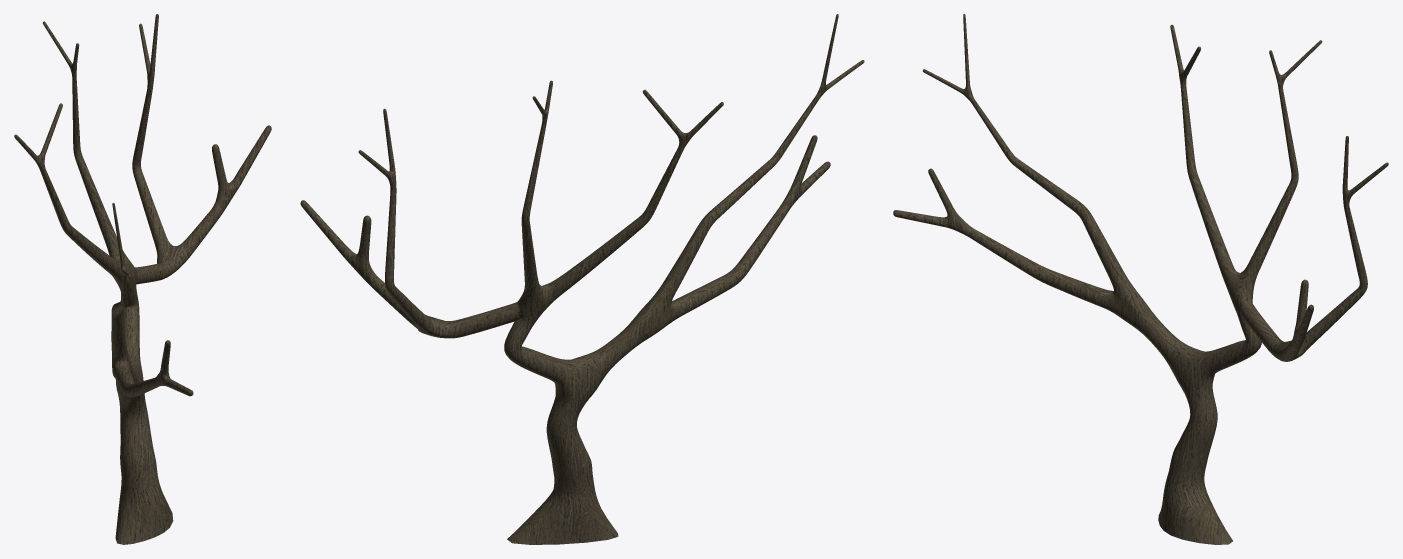
File: withered_tree_brown.glb
3 views of the same model, side by side, from view 1: azimuth 30°, elevation 25°; view 2: azimuth 150°, elevation 25°; view 3: azimuth 270°, elevation 25° (orthographic). The views are drawn at different scales.
Visible parts, largest first — view 1: Cube.019; view 2: Cube.019; view 3: Cube.019.
Part boxes in pixels (x1=…): Cube.019: x1=14, y1=14, x2=271, y2=544; Cube.019: x1=300, y1=14, x2=864, y2=544; Cube.019: x1=893, y1=14, x2=1388, y2=544.
Size of the model in its own units: 6.16 by 8.21 by 7.83.
Materials: 1 (1 with a texture image).
